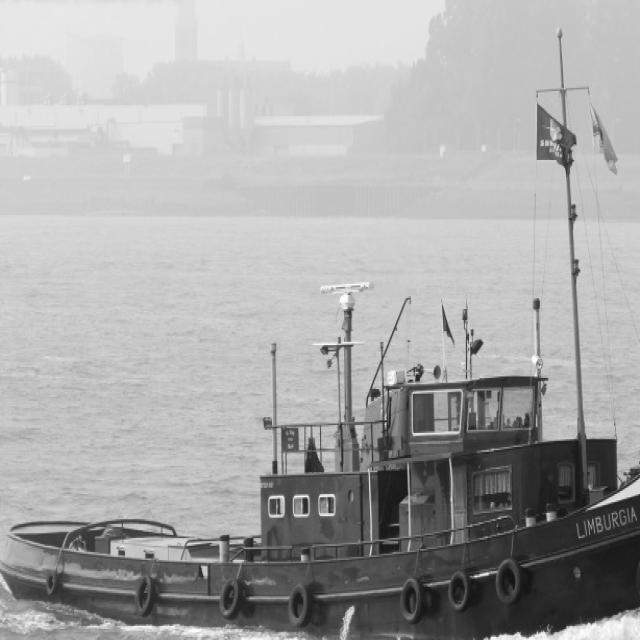tugboat: (1, 272, 640, 640)
